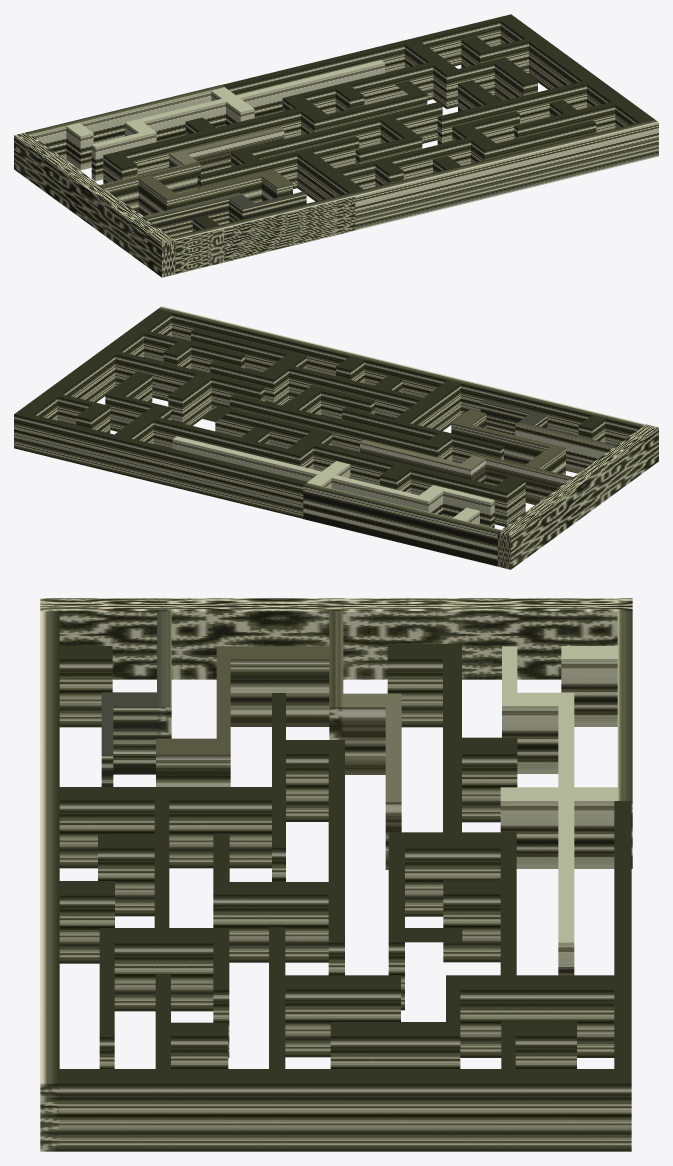
The model's file is laberinto.fbx.
The picture shows the model from 3 angles, top to bottom: view 1: azimuth 30°, elevation 25°; view 2: azimuth 150°, elevation 25°; view 3: azimuth 270°, elevation 25°; orthographic projection. The views are drawn at different scales.
Visible parts, largest first — view 1: Cube; view 2: Cube; view 3: Cube.
Part boxes in pixels (<box>): Cube: <box>14,14,658,277</box>; Cube: <box>14,306,658,569</box>; Cube: <box>40,598,632,1151</box>.
Bounding box in the file's own units: 420 × 27.45 × 217.
Materials: 1 (1 with a texture image).
